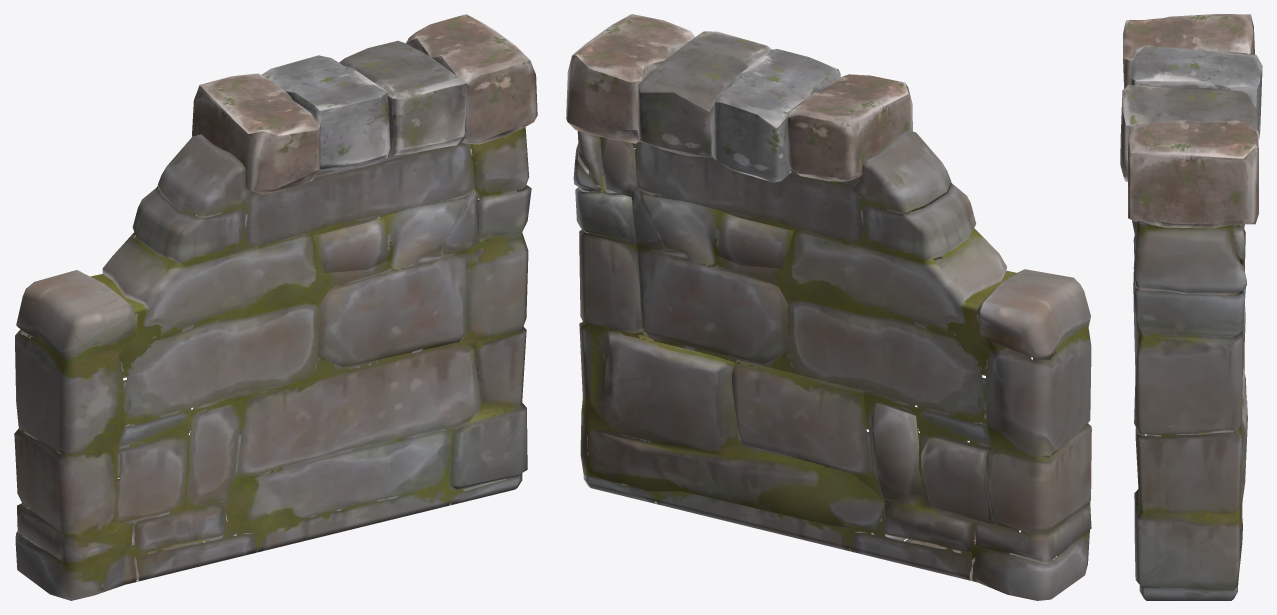
The picture shows the model from 3 angles, left to right: view 1: azimuth 30°, elevation 25°; view 2: azimuth 150°, elevation 25°; view 3: azimuth 270°, elevation 25°; orthographic projection. The views are drawn at different scales.
Parts seen in each view (by area): view 1: SM_River_Bridge_Wall_01_v4_LOD0; view 2: SM_River_Bridge_Wall_01_v4_LOD0; view 3: SM_River_Bridge_Wall_01_v4_LOD0.
Boxes of the visible parts, <box> form: SM_River_Bridge_Wall_01_v4_LOD0: <box>14,14,537,600</box>; SM_River_Bridge_Wall_01_v4_LOD0: <box>566,14,1091,600</box>; SM_River_Bridge_Wall_01_v4_LOD0: <box>1120,14,1262,600</box>.
Bounding box in the file's own units: 2.05 × 1.8 × 0.5091.
Materials: 2 (2 with a texture image).
